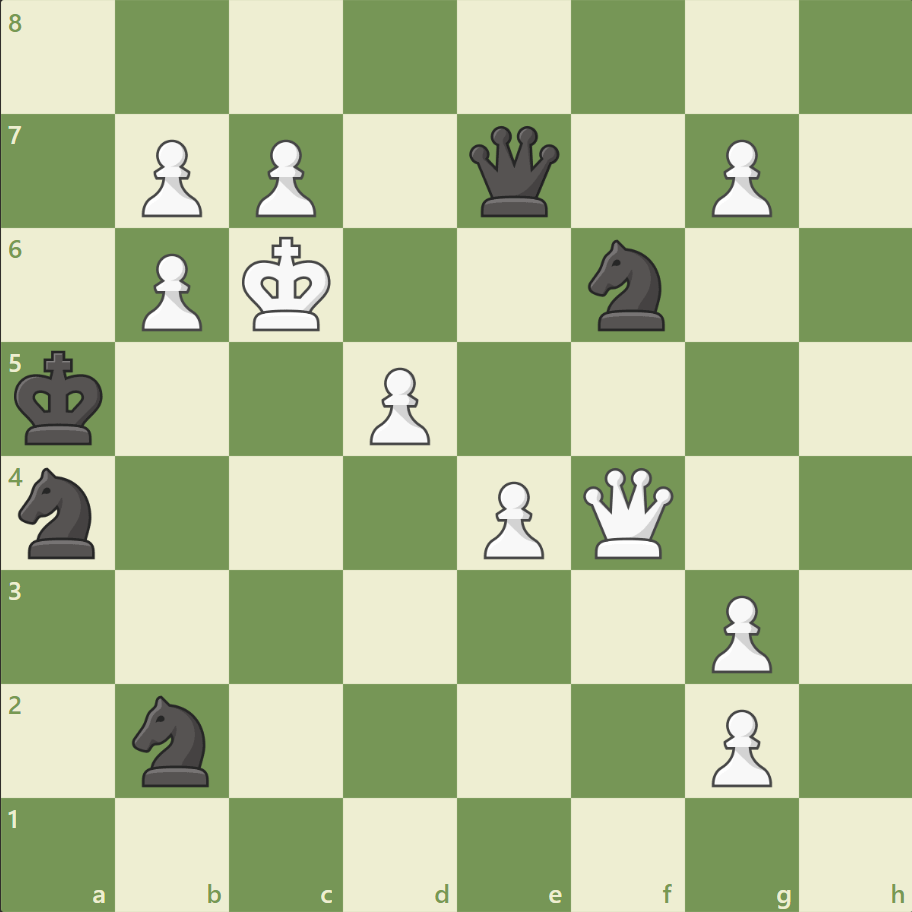K: (238, 231, 338, 339)
P: (133, 132, 208, 223), (247, 132, 322, 223), (701, 132, 776, 223), (133, 246, 208, 337), (474, 473, 549, 564), (701, 586, 776, 677), (701, 700, 776, 791), (361, 359, 435, 450)
Q: (578, 463, 677, 562)
k: (11, 344, 111, 452)
n: (124, 688, 222, 791), (579, 234, 676, 337), (11, 461, 108, 564)
q: (464, 122, 563, 222)
